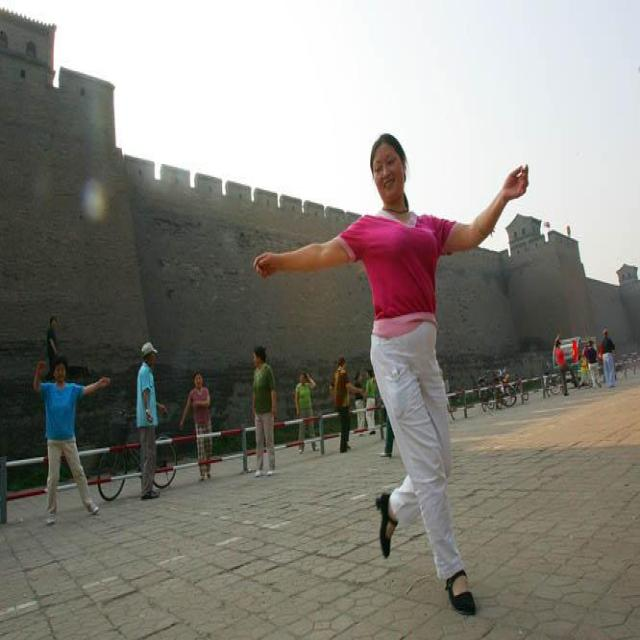non-fight: (245, 129, 532, 616), (33, 348, 96, 524), (129, 340, 167, 502), (246, 343, 279, 476), (179, 370, 217, 483), (332, 354, 358, 453), (294, 370, 320, 453)
